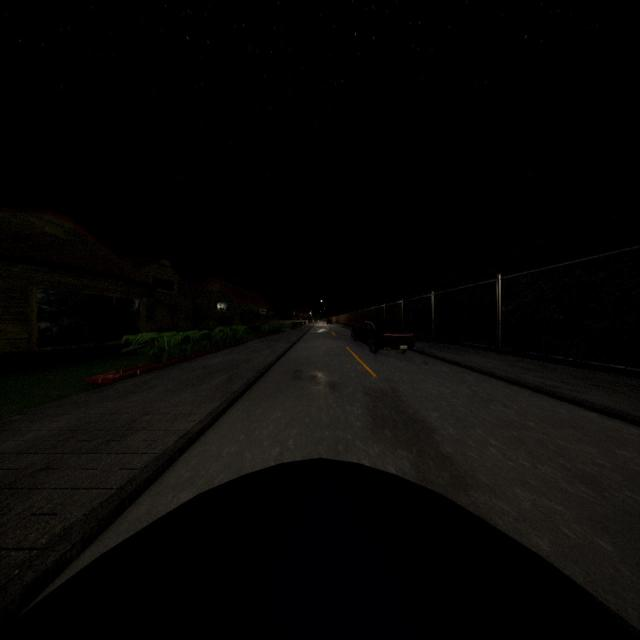Vehicle: (2, 458, 639, 640), (349, 317, 415, 355), (326, 318, 332, 324)
